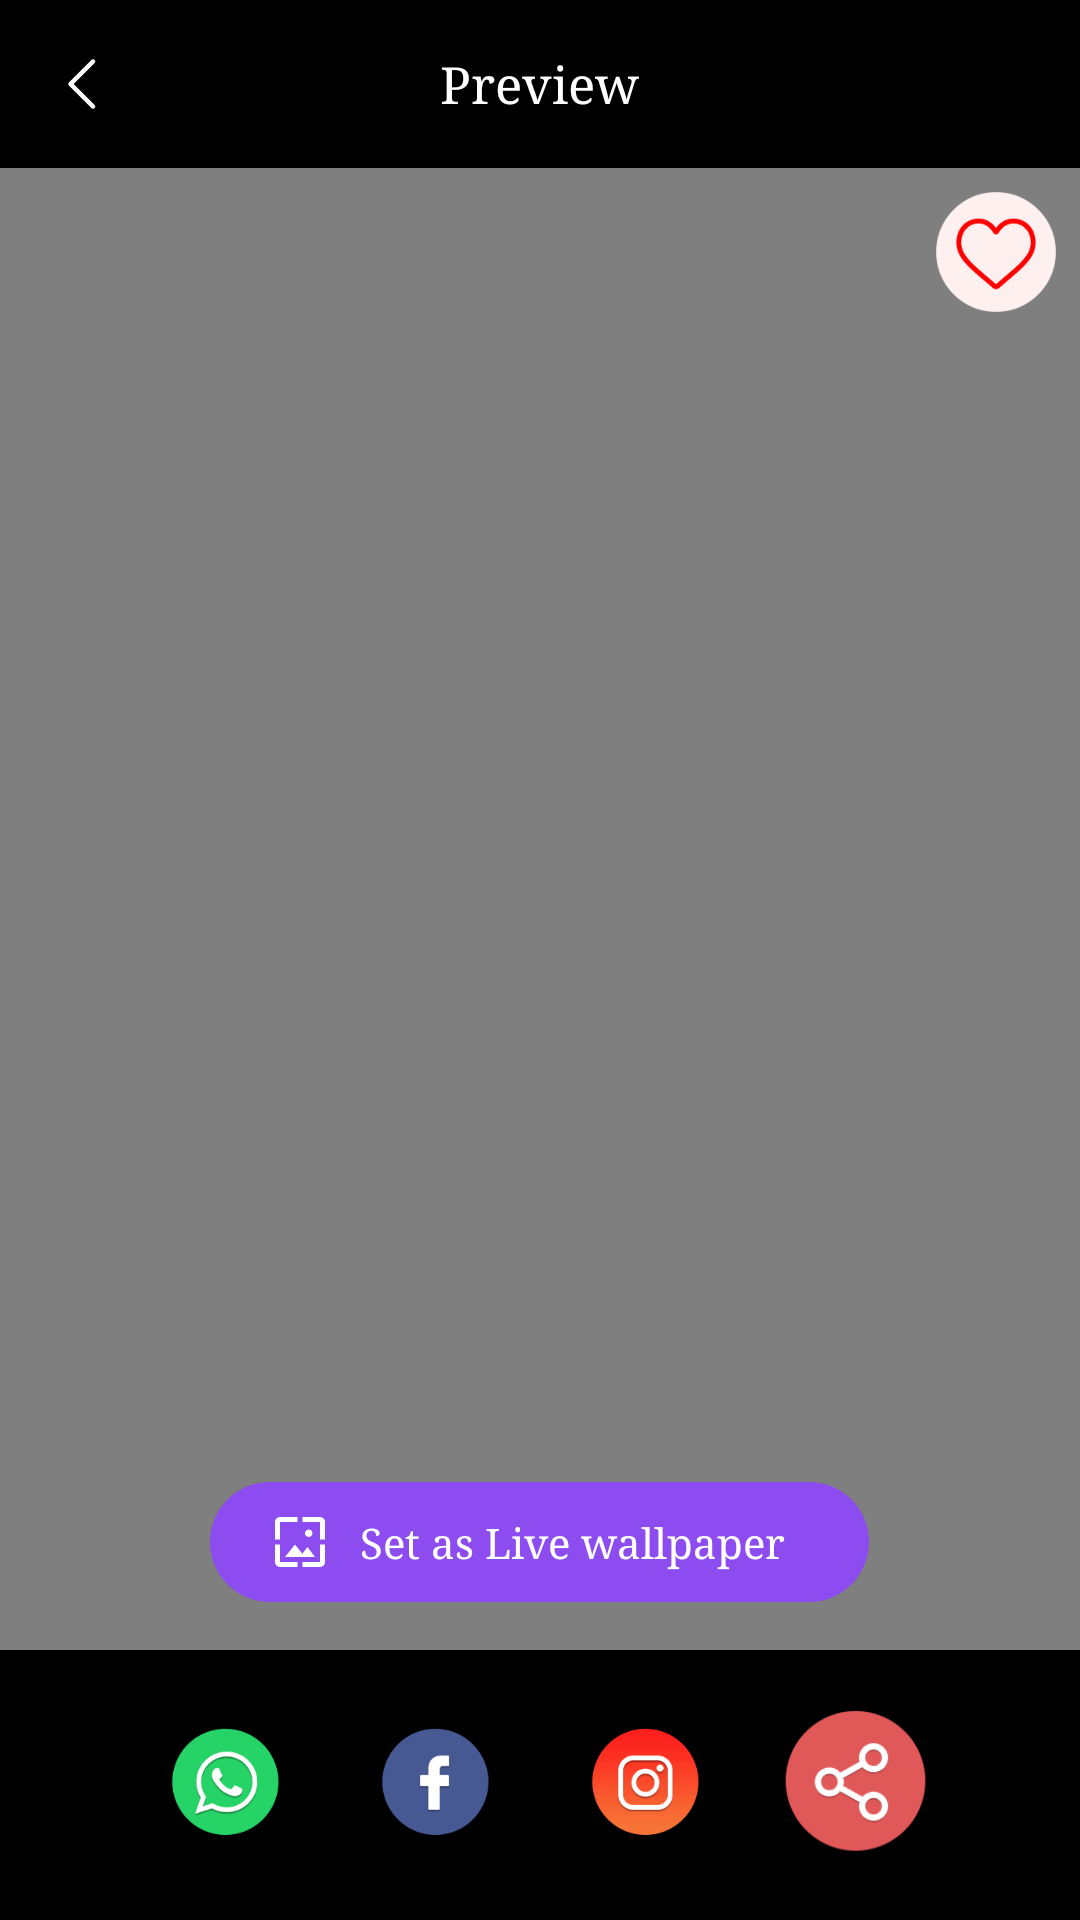

Locate icon controls on the screen. Image size 1080px x 1920px, boxes as (x1=x1, y1=y1, x2=x2, y2=y2).
back: (x1=68, y1=59, x2=96, y2=109)
fav: (x1=936, y1=192, x2=1056, y2=312)
share album: (x1=785, y1=1711, x2=926, y2=1851)
